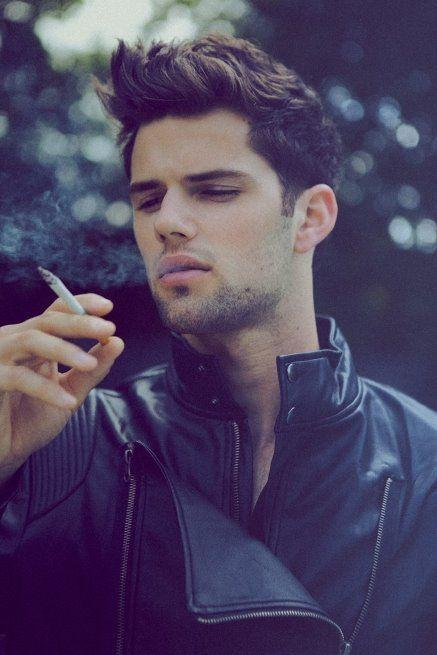cigarette: (38, 266, 110, 347)
